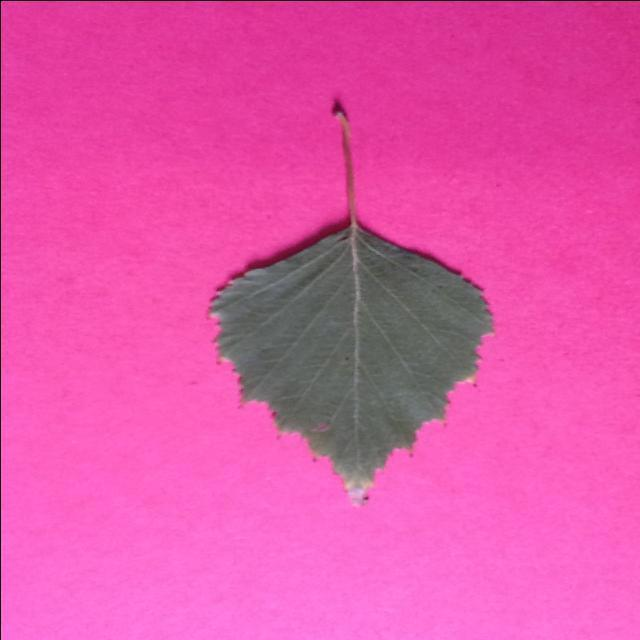foliage: (199, 100, 507, 512)
